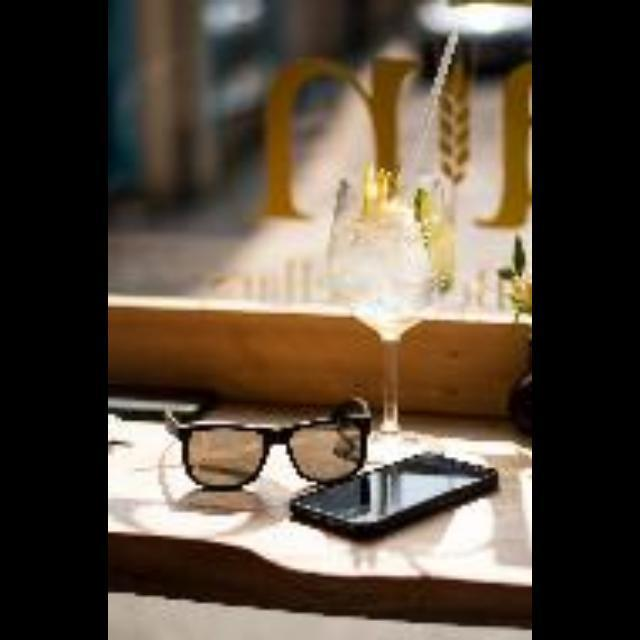phone: (293, 431, 504, 553)
